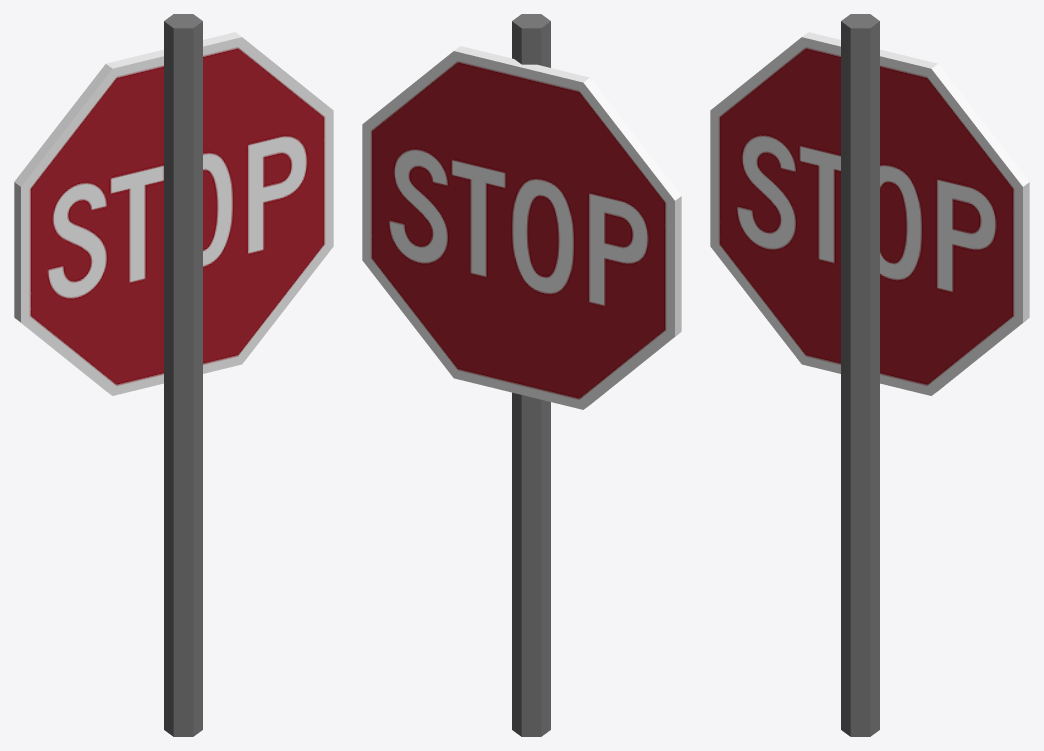
File: stopsign.fbx
The picture shows the model from 3 angles, left to right: view 1: azimuth 30°, elevation 25°; view 2: azimuth 150°, elevation 25°; view 3: azimuth 330°, elevation 25°; orthographic projection.
Visible parts, largest first — view 1: StopSign, stopsign-post; view 2: StopSign, stopsign-post; view 3: StopSign, stopsign-post.
Part boxes in pixels (bbox=[...]): StopSign: bbox=[14, 32, 333, 395]; stopsign-post: bbox=[164, 14, 202, 736]; StopSign: bbox=[362, 46, 681, 409]; stopsign-post: bbox=[512, 14, 550, 736]; StopSign: bbox=[710, 32, 1029, 395]; stopsign-post: bbox=[841, 14, 879, 736].
Bounding box in the file's own units: 92.39 × 200 × 11.61.
2 materials, 1 textured.
